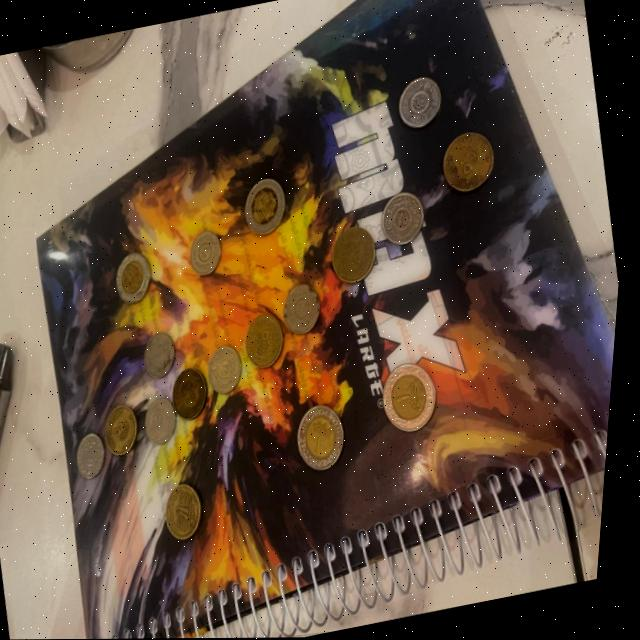One Pound: (379, 354, 452, 442), (435, 121, 509, 201), (291, 397, 362, 477), (325, 220, 388, 288), (236, 173, 297, 241), (243, 307, 292, 373), (102, 396, 150, 463), (162, 481, 214, 541), (110, 249, 161, 309), (171, 365, 216, 417)
quarter pound: (391, 69, 453, 139), (277, 280, 333, 339), (378, 190, 433, 247), (206, 340, 252, 399), (143, 394, 189, 451), (143, 327, 186, 383), (185, 227, 232, 278), (77, 430, 118, 488)
